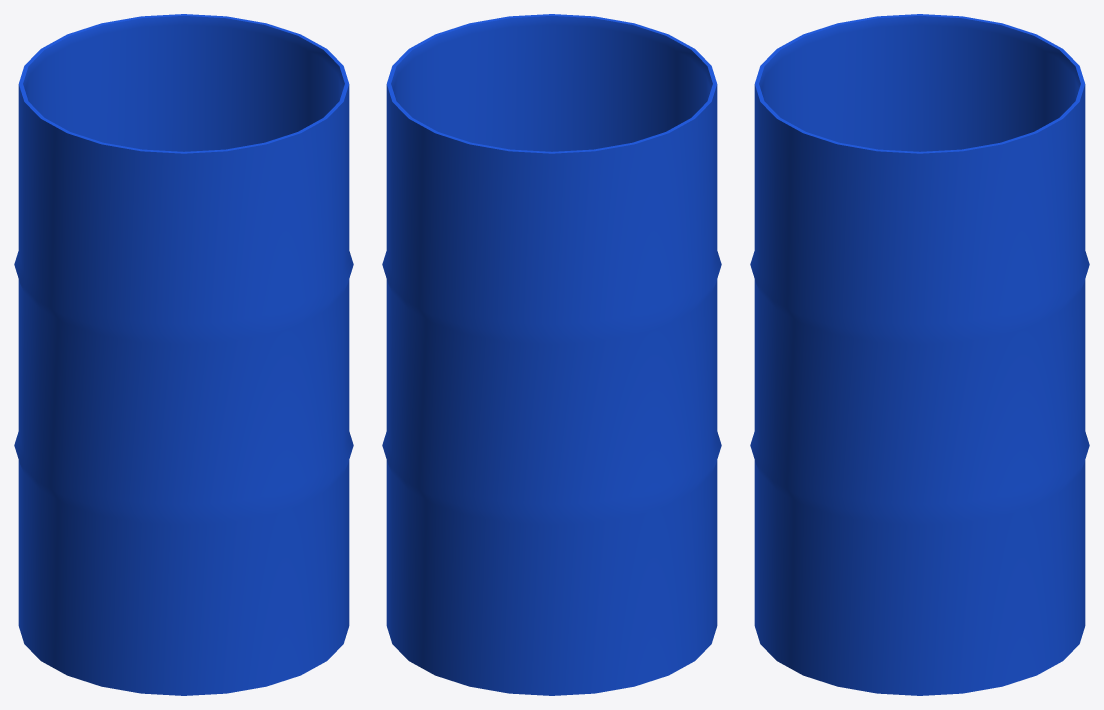
File: barrel_open.fbx
3 renders of one model, left to right at view 1: azimuth 30°, elevation 25°; view 2: azimuth 150°, elevation 25°; view 3: azimuth 270°, elevation 25°, orthographic.
Parts seen in each view (by area): view 1: barrel_open; view 2: barrel_open; view 3: barrel_open.
Part boxes in pixels (box(x1,y1,x2,y2)): barrel_open: box(14, 14, 353, 695); barrel_open: box(382, 14, 721, 695); barrel_open: box(750, 14, 1089, 695).
Bounding box in the file's own units: 51 × 89.88 × 51.
